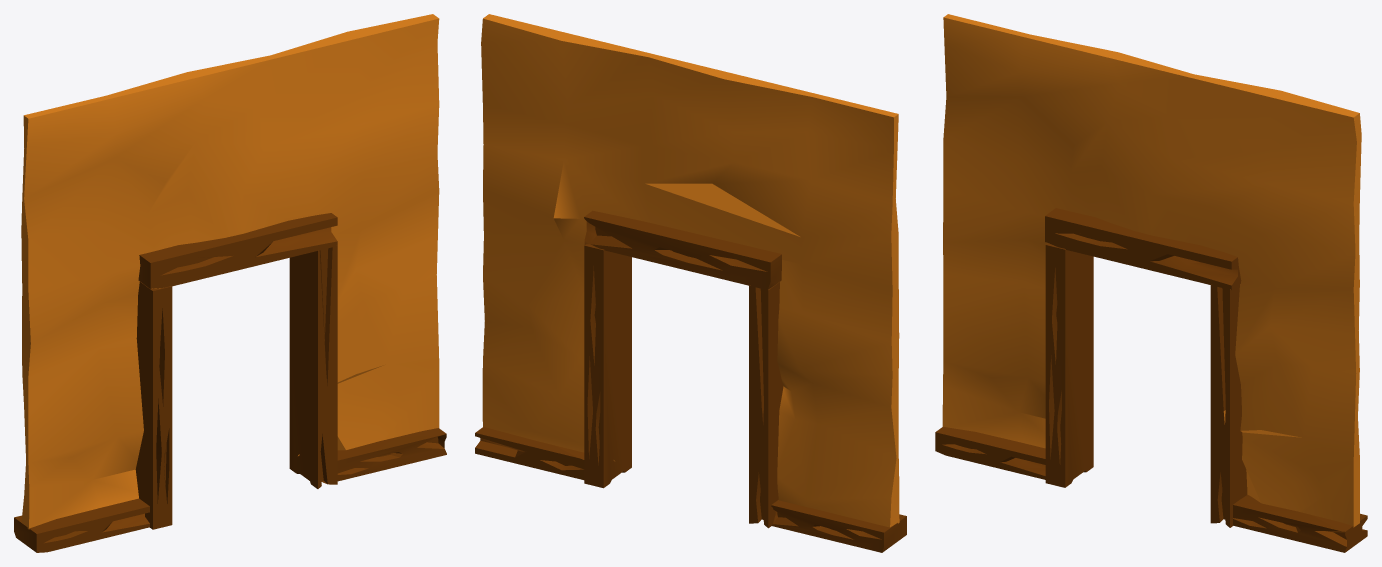
The model's file is Interior_WoodenWallDoor.fbx.
3 views of the same model, side by side, from view 1: azimuth 30°, elevation 25°; view 2: azimuth 150°, elevation 25°; view 3: azimuth 330°, elevation 25° (orthographic).
Visible parts, largest first — view 1: Interior_WoodenWallDoor; view 2: Interior_WoodenWallDoor; view 3: Interior_WoodenWallDoor.
Part boxes in pixels (box(x1,y1,x2,y2)): Interior_WoodenWallDoor: box(14, 14, 446, 552); Interior_WoodenWallDoor: box(475, 14, 906, 552); Interior_WoodenWallDoor: box(935, 14, 1367, 552).
Bounding box in the file's own units: 201 × 200 × 24.07.
